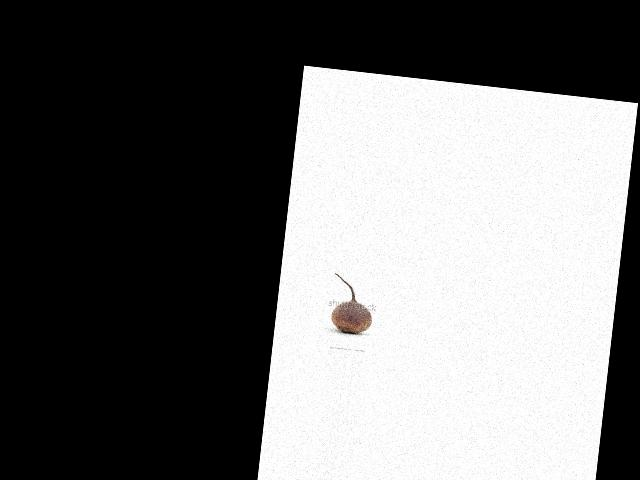beet: (328, 273, 377, 336)
